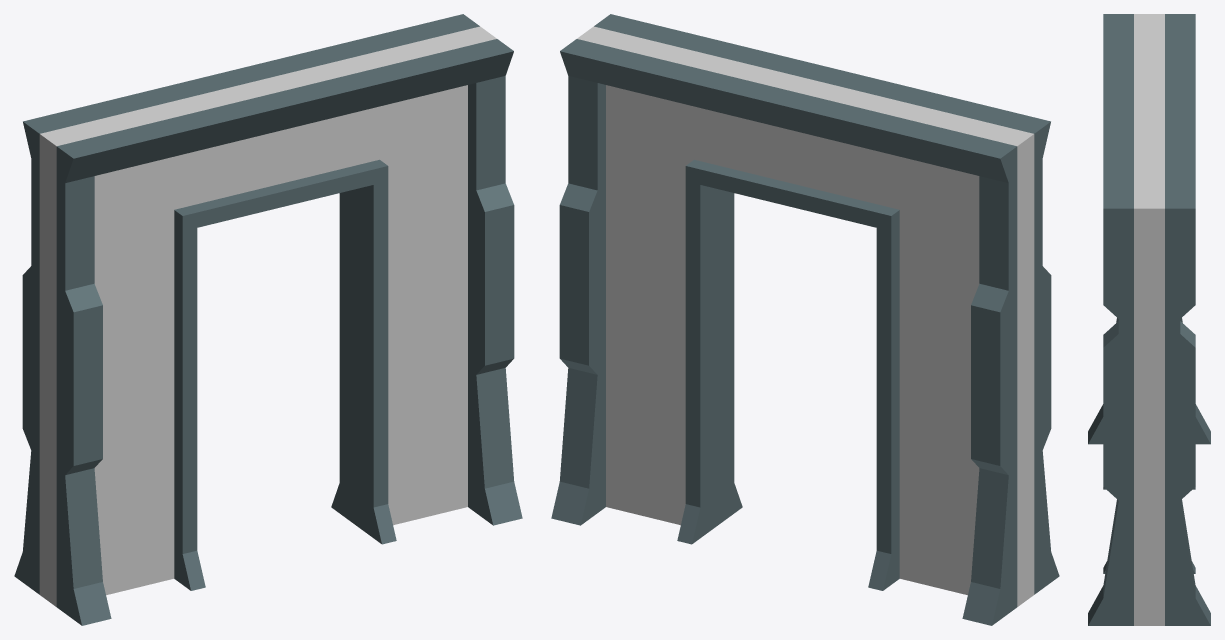
File: scifi_wall_2sided_door.fbx
3 views of the same model, side by side, from view 1: azimuth 30°, elevation 25°; view 2: azimuth 150°, elevation 25°; view 3: azimuth 270°, elevation 25° (orthographic). The views are drawn at different scales.
Parts seen in each view (by area): view 1: Cube.002; view 2: Cube.002; view 3: Cube.002.
Part boxes in pixels (x1,y1,x2,y2): Cube.002: [14, 14, 522, 625]; Cube.002: [551, 14, 1059, 625]; Cube.002: [1088, 14, 1210, 625].
Size of the model in its own units: 3 by 3 by 0.8.
